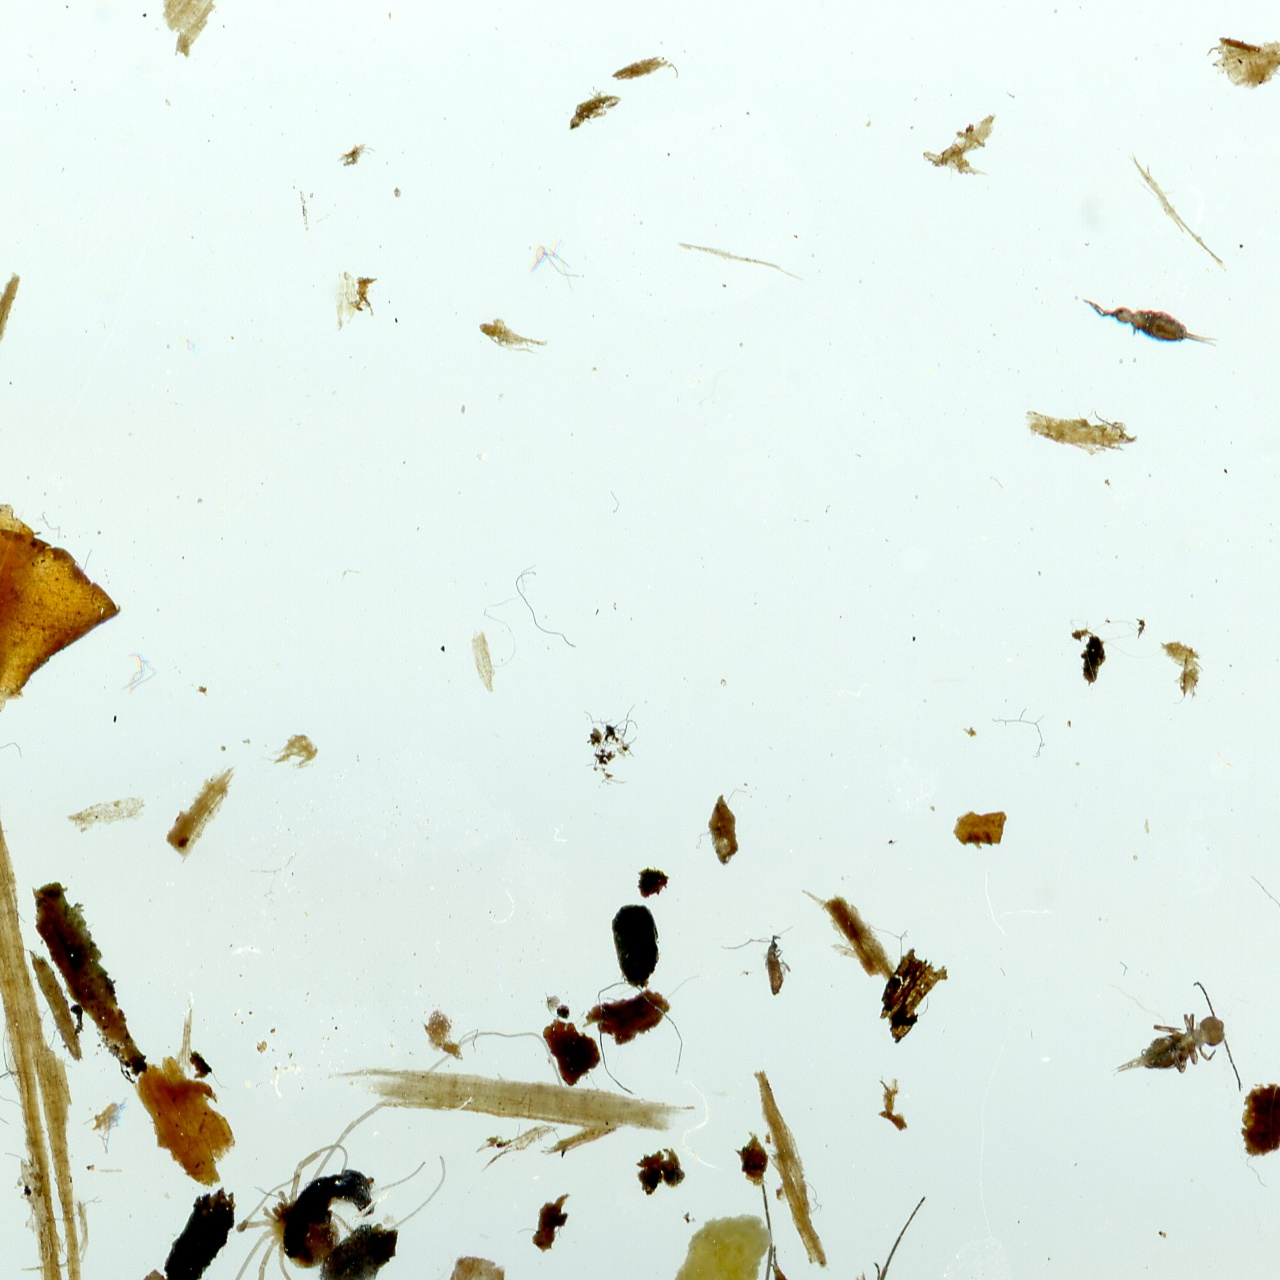arthropod: (94, 948, 619, 1280), (1083, 972, 1253, 1137), (755, 1177, 930, 1280), (1071, 287, 1228, 362), (761, 931, 795, 1000)
